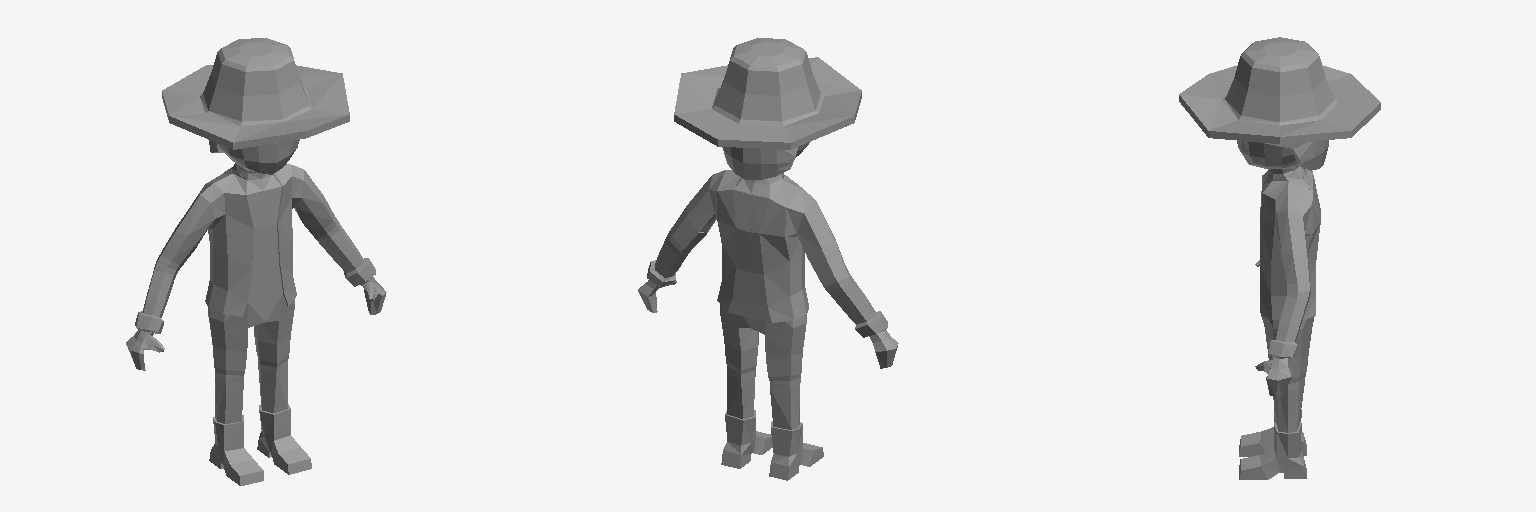
Rendered from character_model.obj.
The picture shows the model from 3 angles: view 1: azimuth 30°, elevation 25°; view 2: azimuth 150°, elevation 25°; view 3: azimuth 270°, elevation 25°; orthographic projection.
Parts seen in each view (by area): view 1: Cube, Cube.001_Cube.002; view 2: Cube, Cube.001_Cube.002, Cube.002_Cube.003; view 3: Cube, Cube.001_Cube.002, Cube.002_Cube.003.
Part boxes in pixels (x1,y1,x2,y2): Cube: (126,140,386,485); Cube.001_Cube.002: (162,38,349,149); Cube: (638,142,898,480); Cube.001_Cube.002: (674,38,861,149); Cube.002_Cube.003: (722,147,797,179); Cube: (1237,141,1320,479); Cube.001_Cube.002: (1179,37,1380,143); Cube.002_Cube.003: (1265,140,1328,170).
Size of the model in its own units: 9.62 by 15 by 6.64.